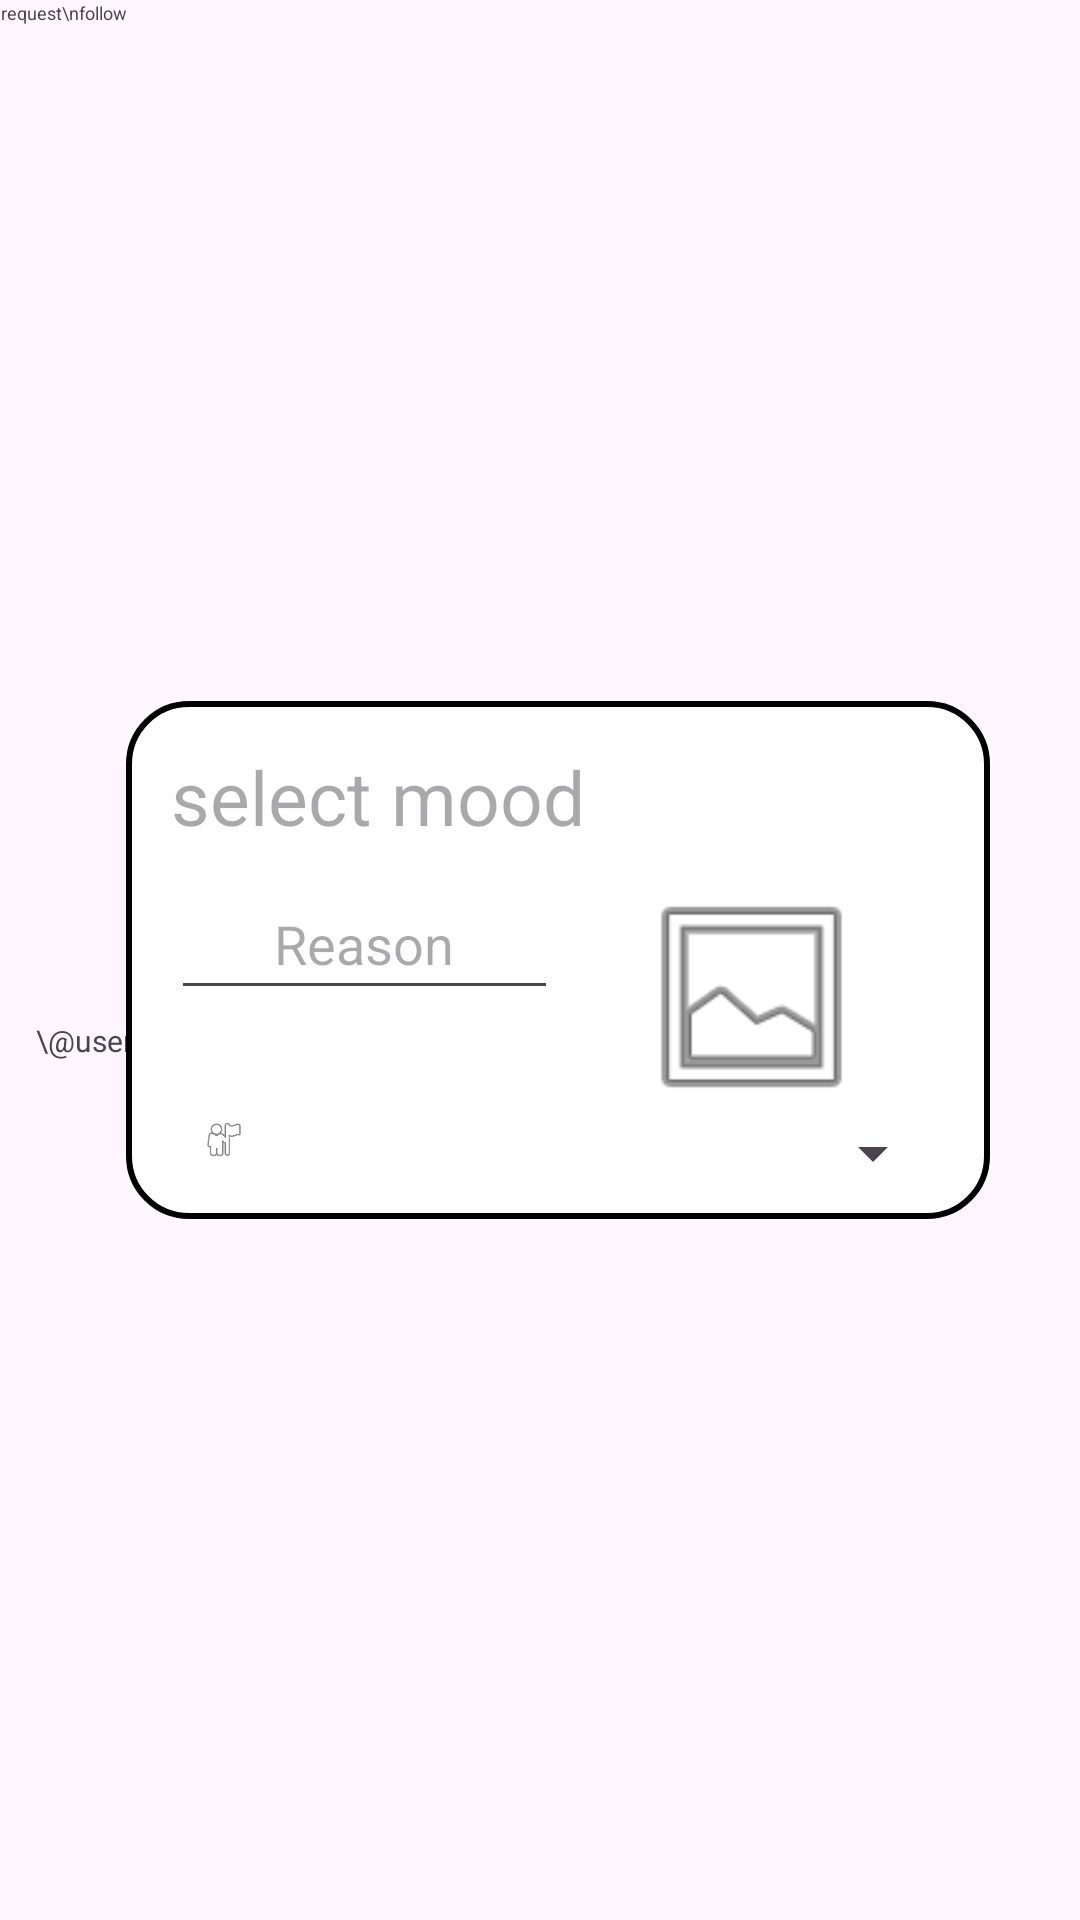

Where icons sit on this 1080x1920 app screen, as (x1, y1, x2, y2):
gallery: (661, 906, 842, 1088)
myplaces: (207, 1123, 241, 1156)
